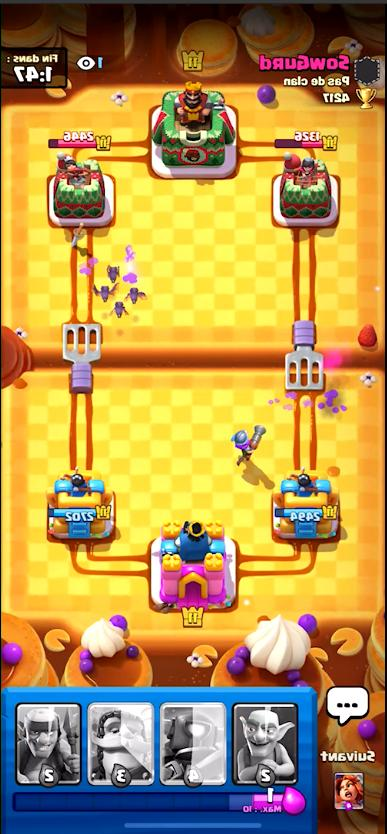bat: (110, 298, 128, 322), (102, 264, 124, 283), (92, 285, 116, 302), (126, 287, 145, 304)
mousquetaire: (230, 419, 262, 469)
